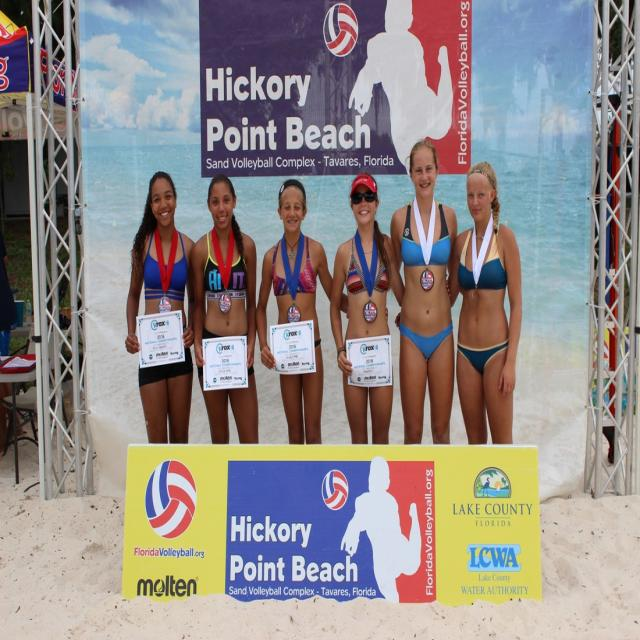body: (253, 176, 390, 446), (328, 169, 452, 447), (445, 161, 524, 445), (388, 137, 460, 446), (124, 170, 198, 446), (188, 170, 261, 444), (346, 0, 455, 177), (339, 452, 424, 602), (0, 222, 23, 456)
